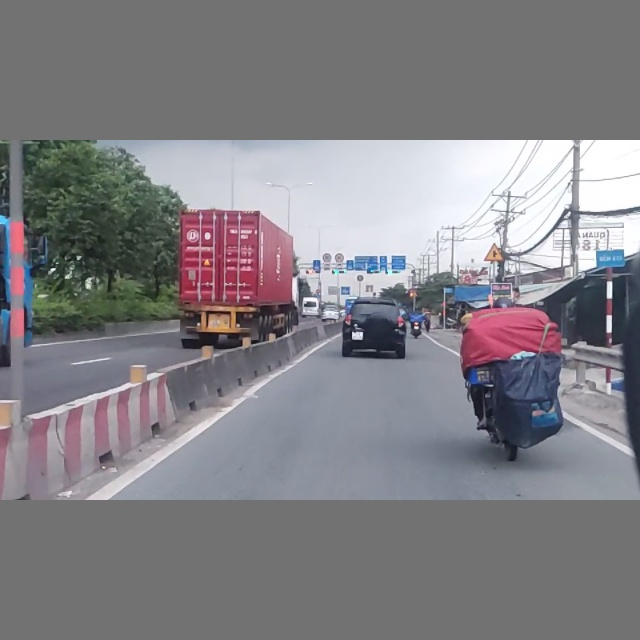W.207: (483, 243, 505, 263)
